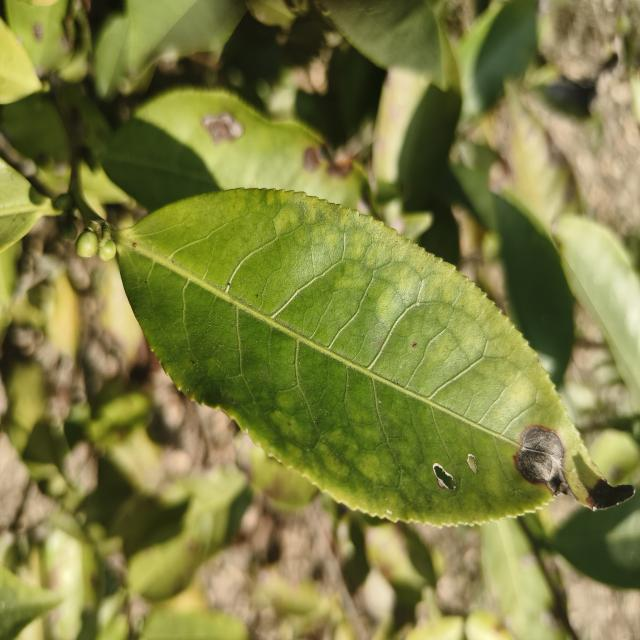Leaf: (117, 189, 632, 524), (101, 88, 375, 213), (554, 215, 640, 413), (372, 26, 462, 212), (493, 195, 573, 386), (480, 514, 577, 640), (319, 0, 443, 79), (457, 0, 537, 119), (551, 489, 640, 588), (127, 0, 246, 69), (236, 434, 318, 511), (4, 0, 80, 77), (128, 530, 208, 601), (0, 158, 57, 252), (365, 523, 434, 589), (0, 567, 62, 640), (0, 19, 42, 104), (94, 14, 129, 98)
